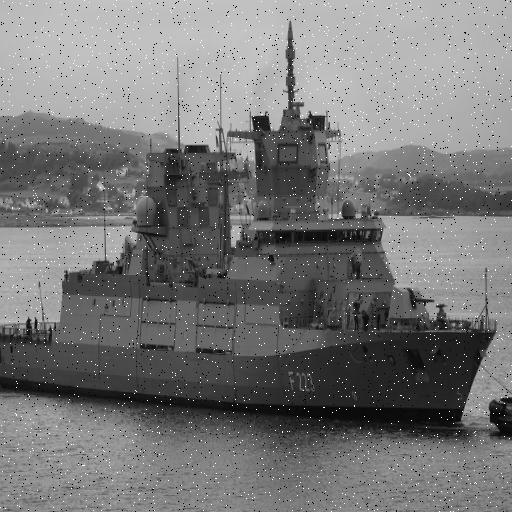Fragata: (1, 15, 504, 437)
